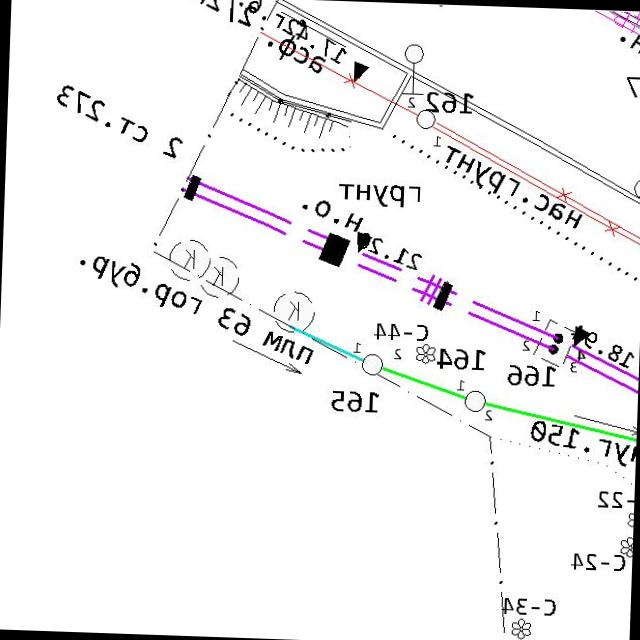asphalt: (265, 32, 326, 74)
bushes: (196, 253, 242, 300), (270, 288, 316, 334), (167, 236, 211, 282), (509, 615, 532, 640), (414, 342, 437, 365)
mark: (350, 58, 371, 86), (570, 324, 593, 348), (353, 230, 372, 253)
sing: (400, 40, 426, 96)
well: (462, 386, 488, 416), (413, 106, 438, 132), (360, 351, 384, 378)
